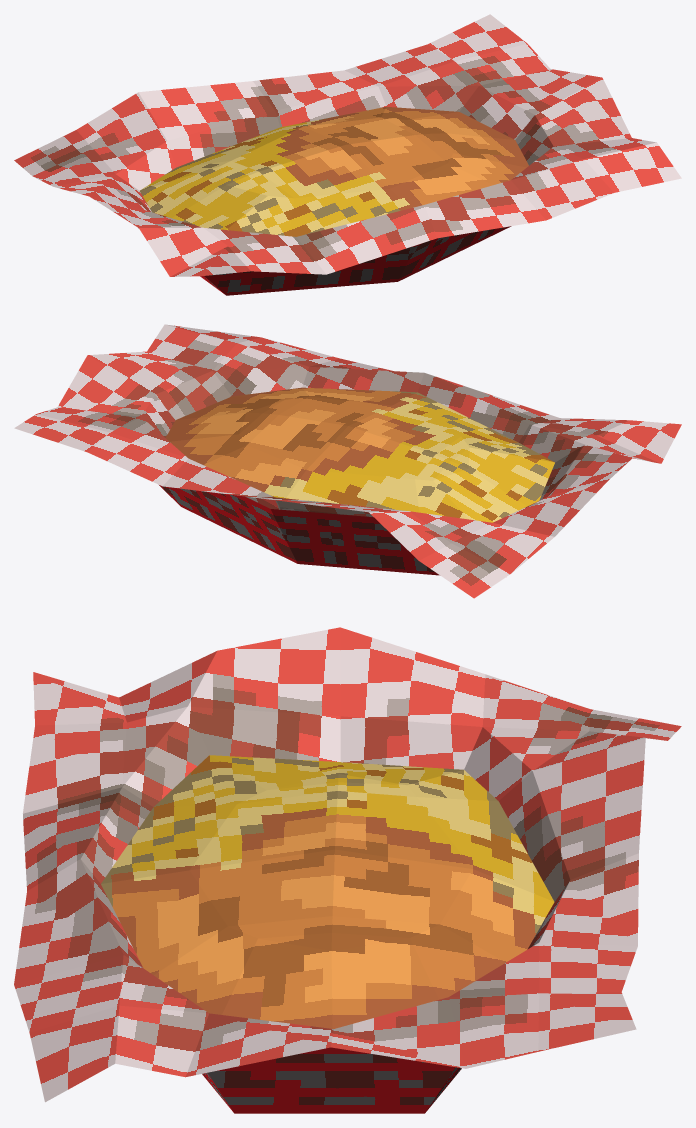
Rendered from ChickenBasket.fbx.
The picture shows the model from 3 angles, top to bottom: view 1: azimuth 30°, elevation 25°; view 2: azimuth 150°, elevation 25°; view 3: azimuth 270°, elevation 25°; orthographic projection. The views are drawn at different scales.
Parts seen in each view (by area): view 1: Food Basket; view 2: Food Basket; view 3: Food Basket.
Part boxes in pixels (box(x1,y1,x2,y2)): Food Basket: box(14, 14, 681, 295); Food Basket: box(14, 324, 681, 598); Food Basket: box(14, 627, 681, 1113).
Size of the model in its own units: 54.95 by 10.72 by 37.47.
